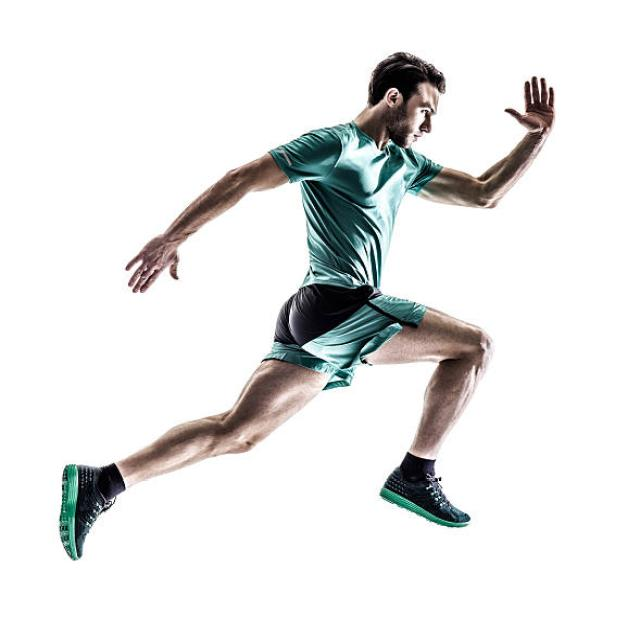Person: (57, 52, 553, 561)
